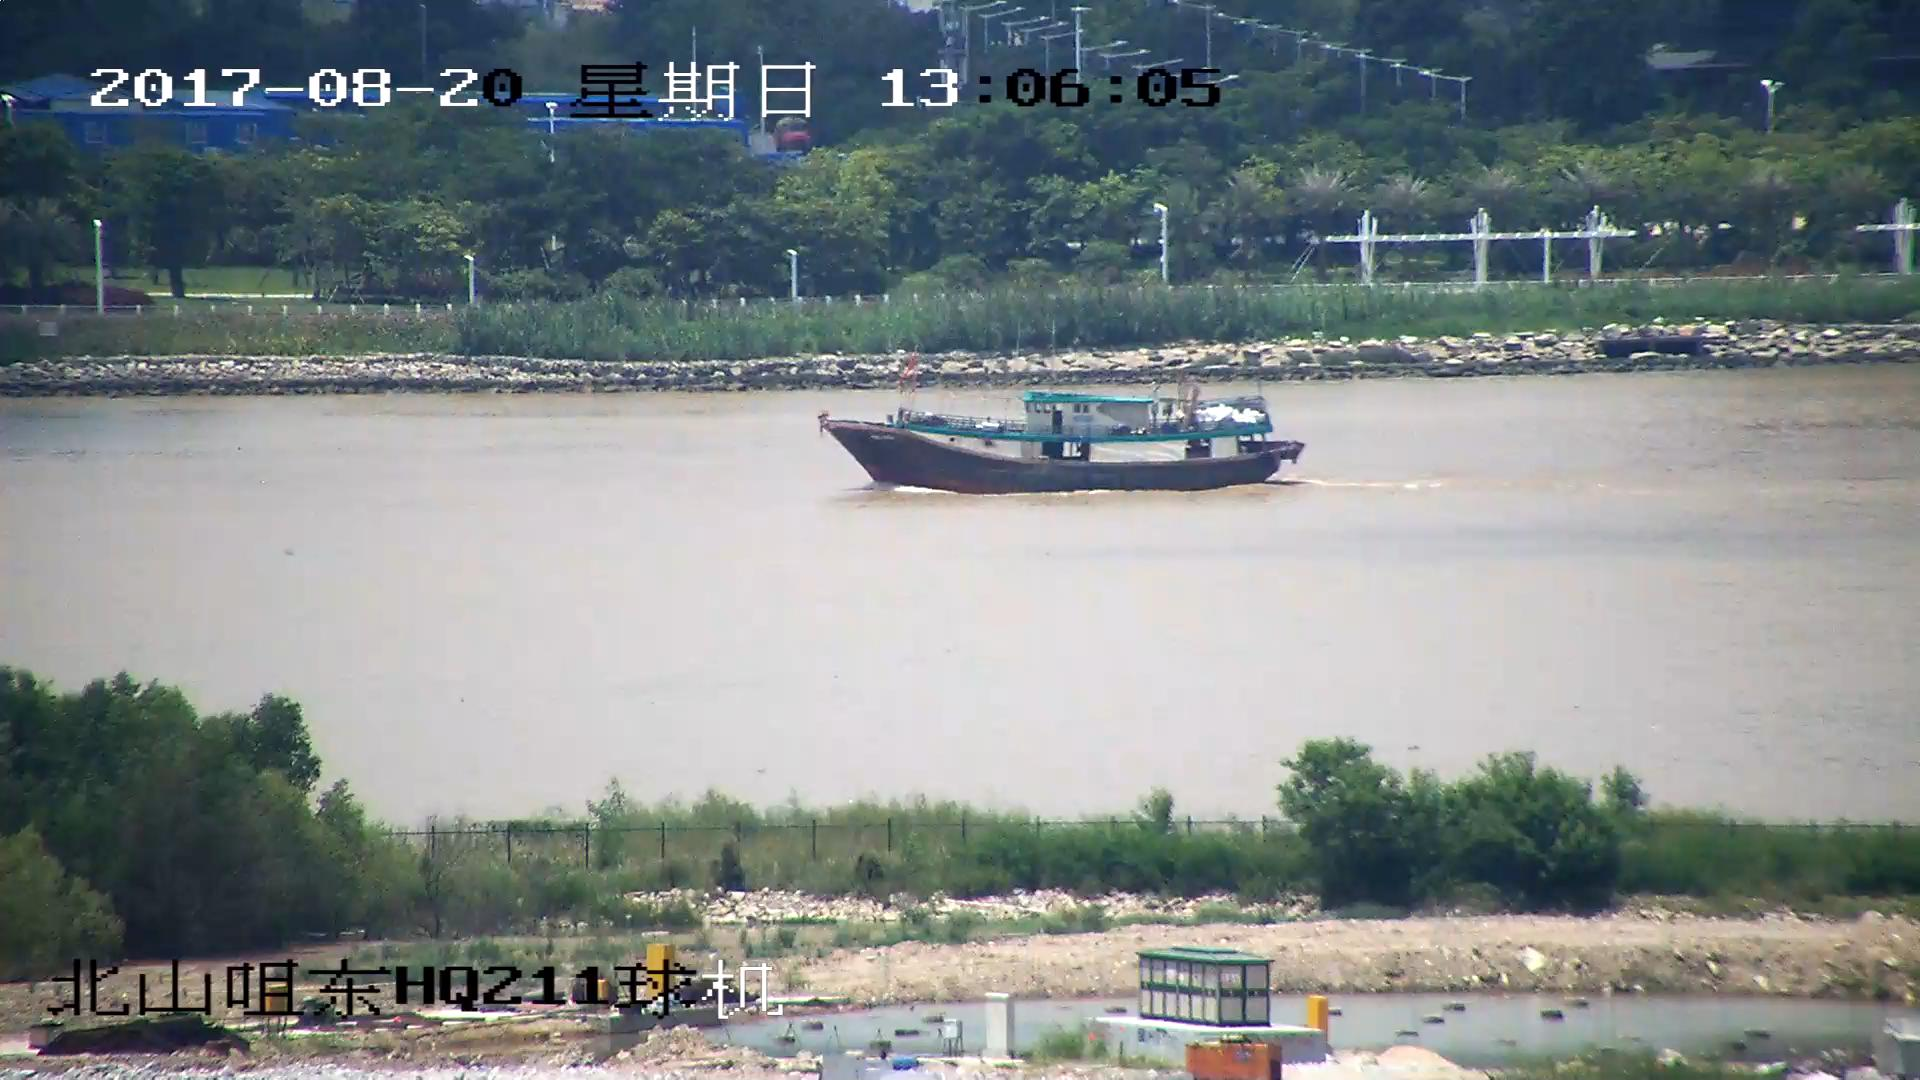fishing boat: (818, 358, 1299, 498)
